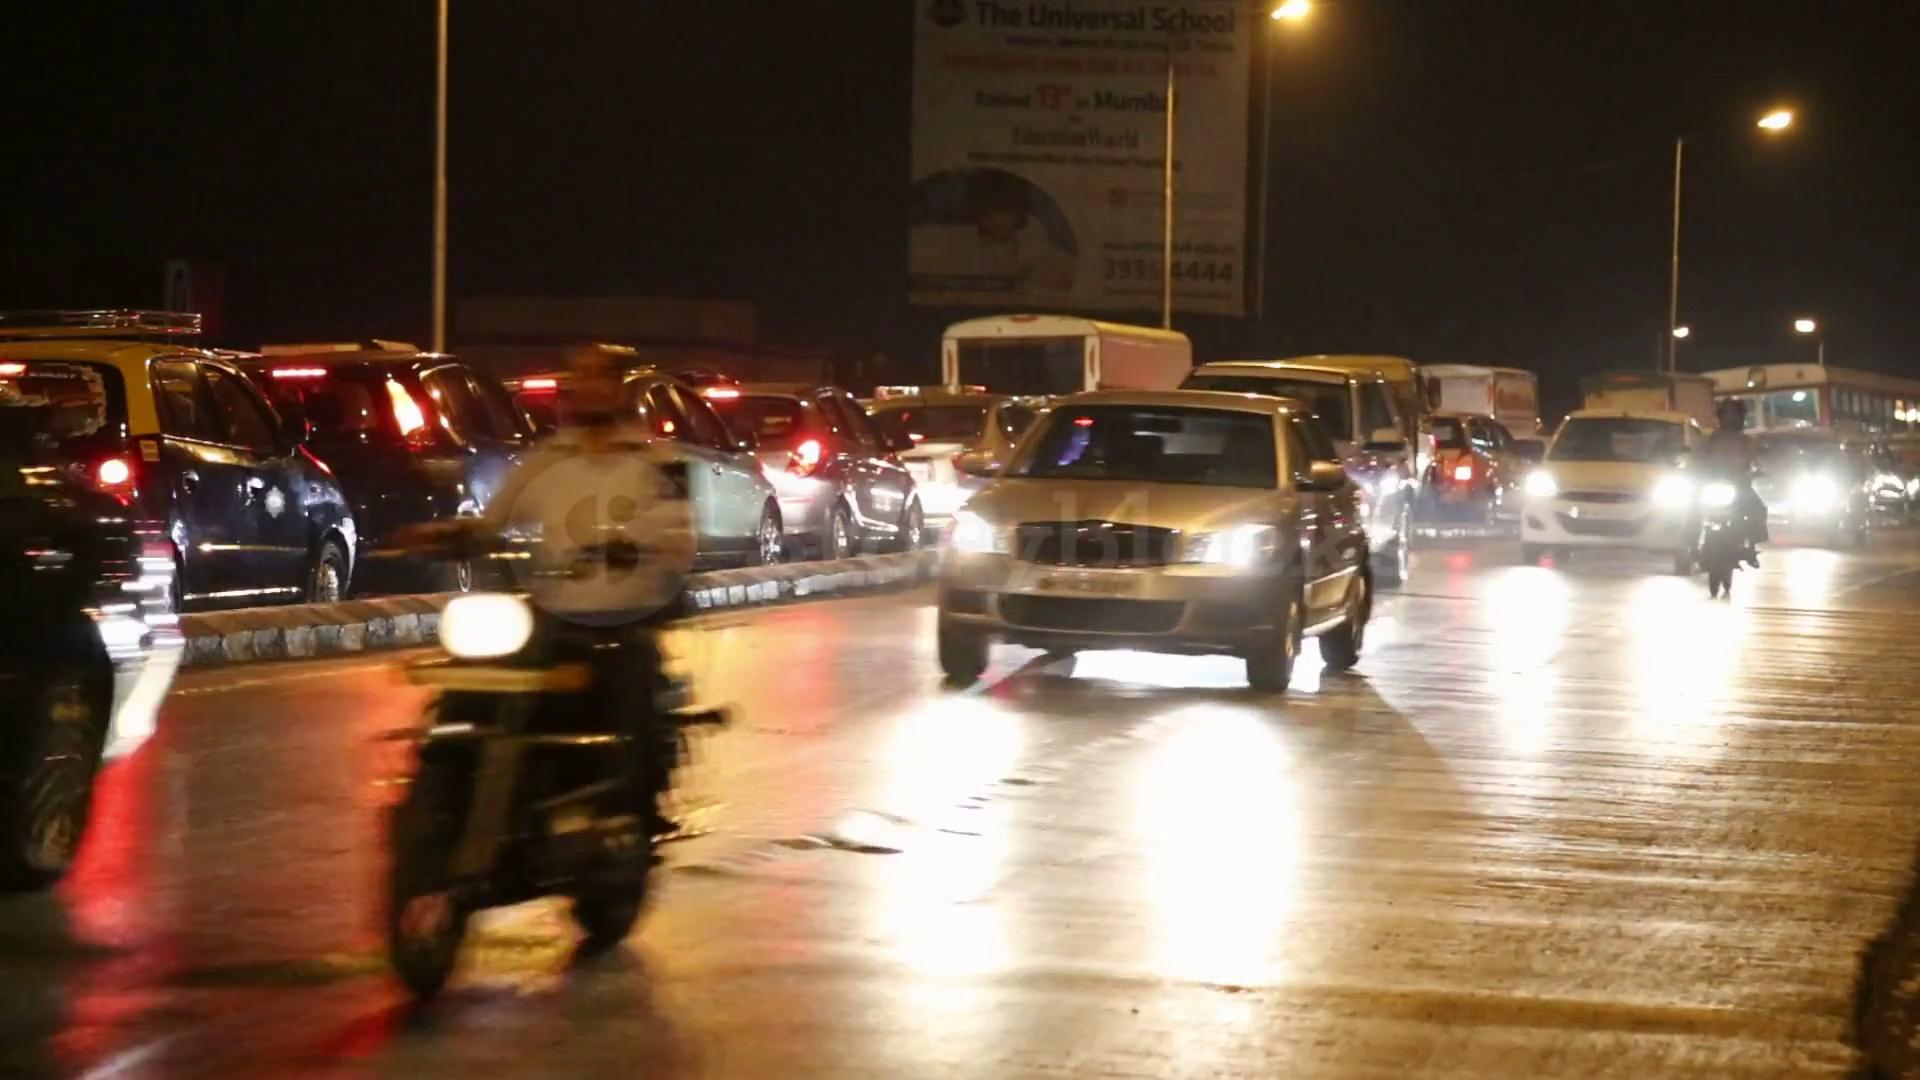rider: (383, 338, 705, 995), (1685, 400, 1767, 573)
without_helmate: (546, 334, 650, 424)
